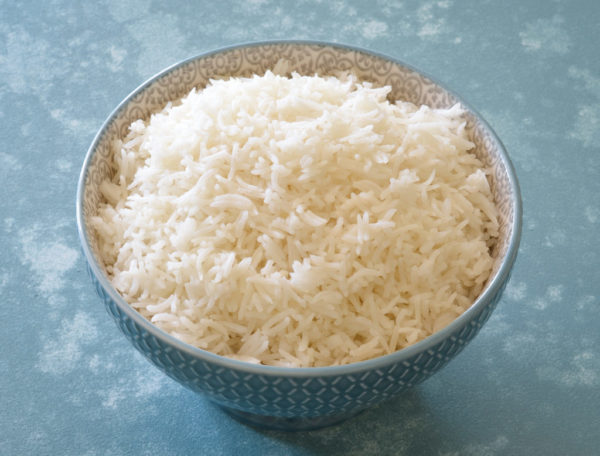plain rice: (114, 74, 489, 357)
